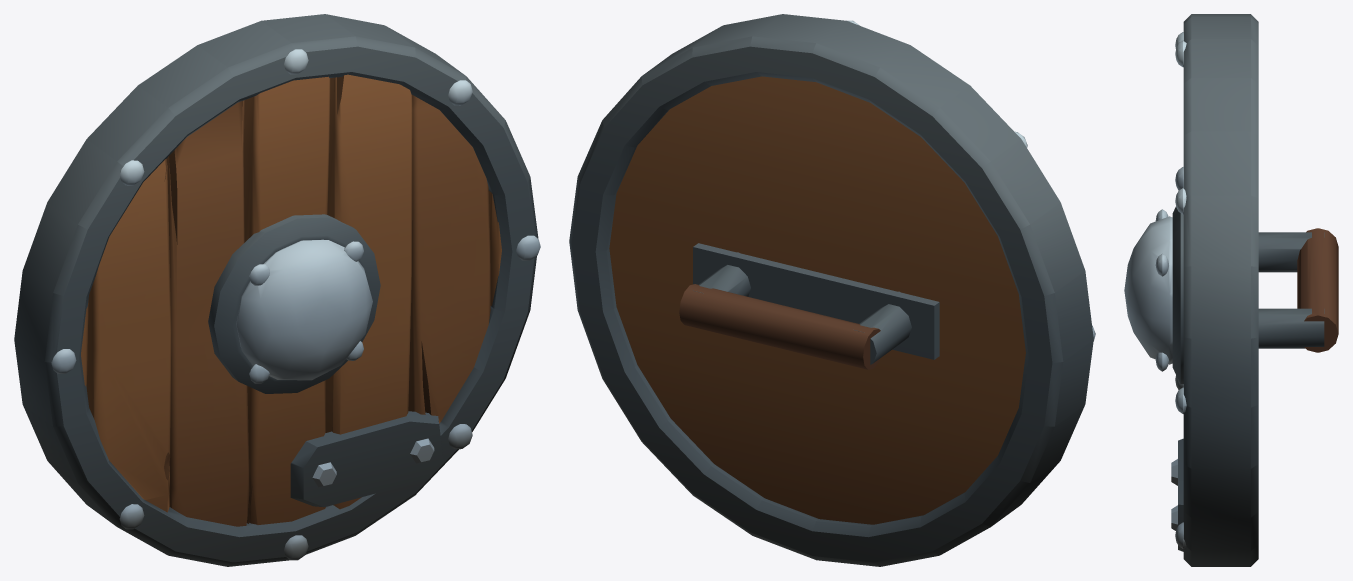
File: shield_round_wood.glb
3 renders of one model, left to right at view 1: azimuth 30°, elevation 25°; view 2: azimuth 150°, elevation 25°; view 3: azimuth 270°, elevation 25°, orthographic. The views are drawn at different scales.
Parts seen in each view (by area): view 1: Item; view 2: Item; view 3: Item.
Boxes of the visible parts, x1,y1,x2,y2 form: Item: (14, 14, 540, 566); Item: (569, 14, 1095, 566); Item: (1124, 14, 1338, 566).
Size of the model in its own units: 0.86 by 0.86 by 0.332.
Materials: 2 (2 with a texture image).
